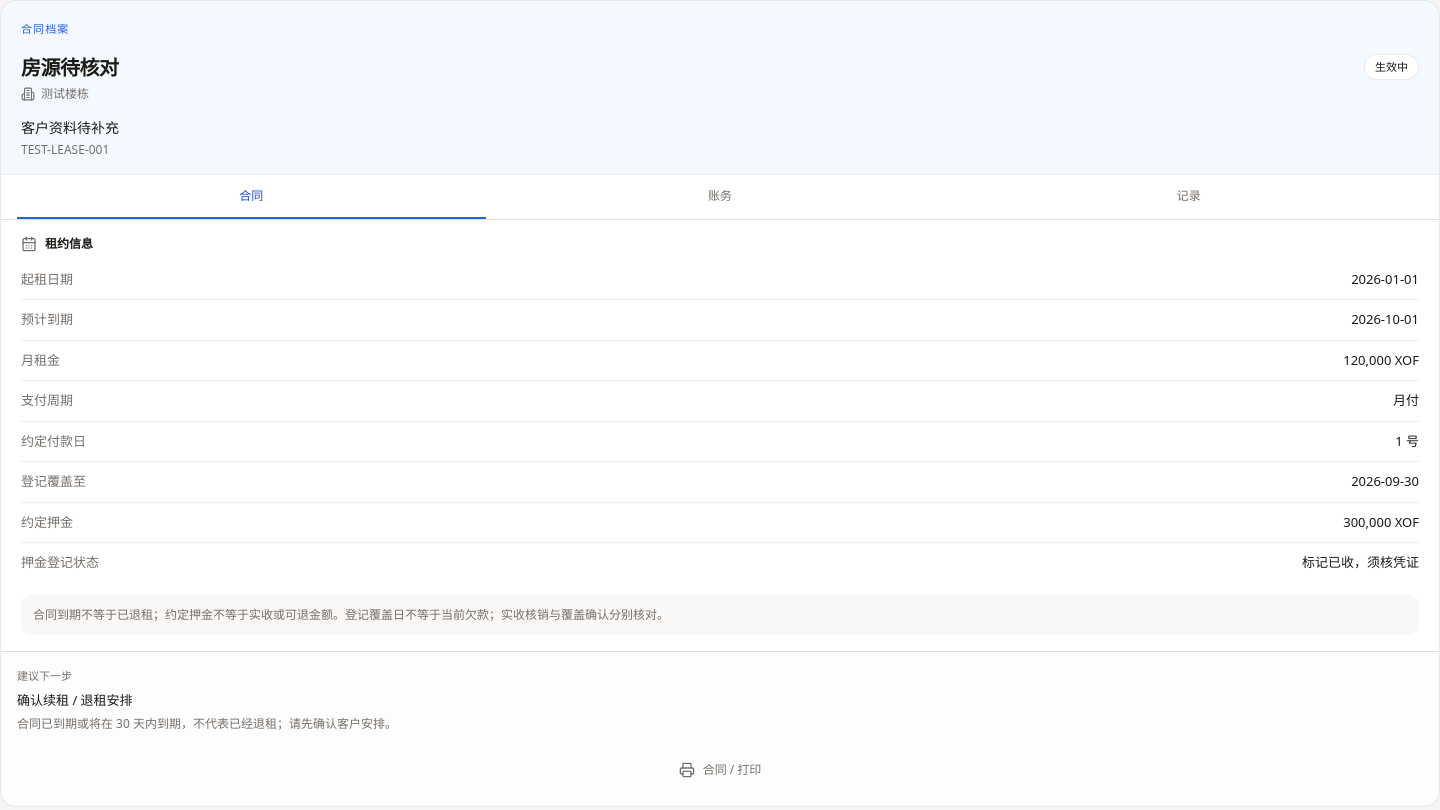
it: LeaseWorkbenchInspector single contract dossier › does not mark native refunds, reversals or non-cash offsets as positive cash receipts
The image size is (1440, 810).
Click the tab "记录": (1189,196) x1=954 y1=174 x2=1423 y2=218
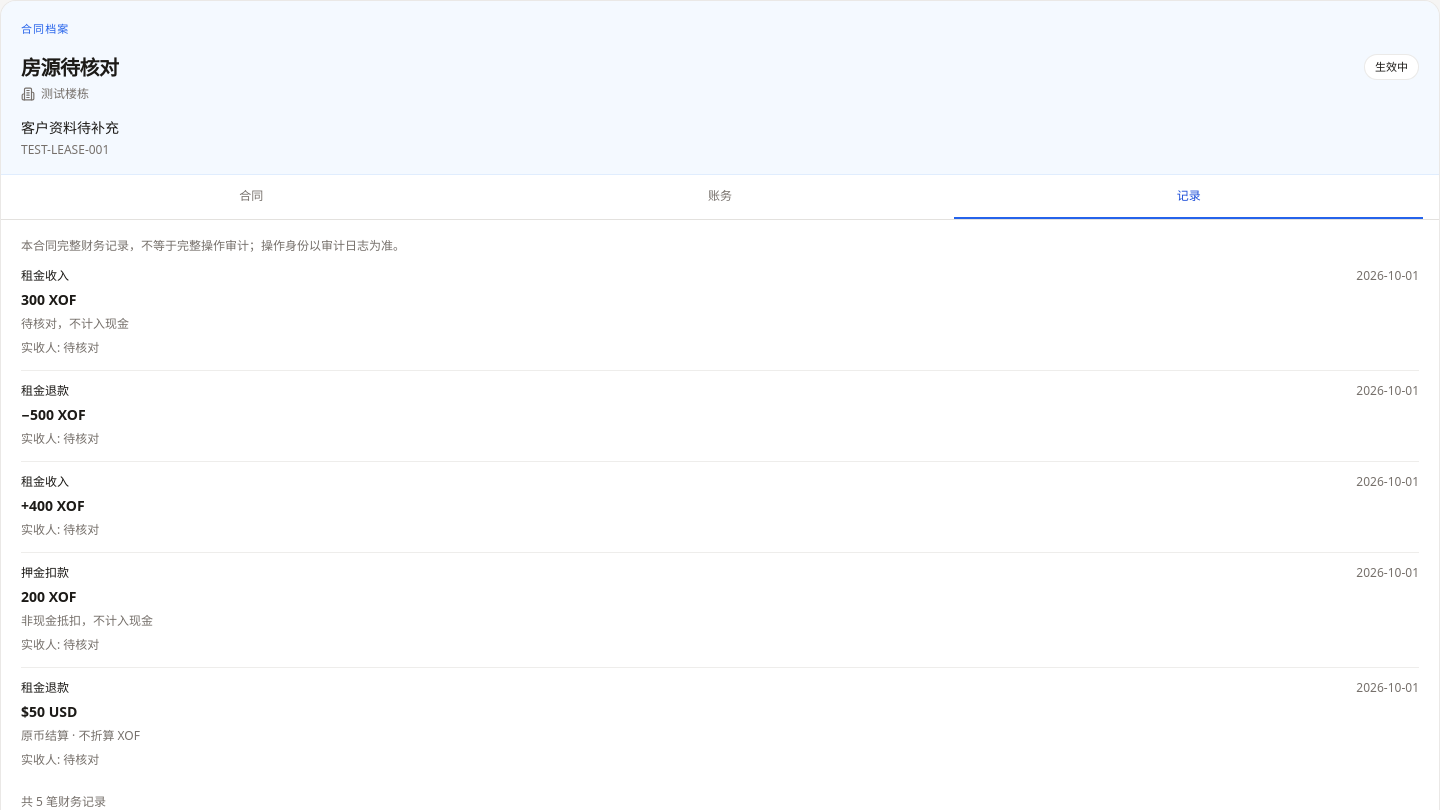
Expected: the text "$50 USD" is shown, x1=21 y1=702 x2=77 y2=720
Expected: the text "200 XOF" is shown, x1=21 y1=586 x2=77 y2=606
Expected: the text "300 XOF" is shown, x1=21 y1=290 x2=77 y2=308
